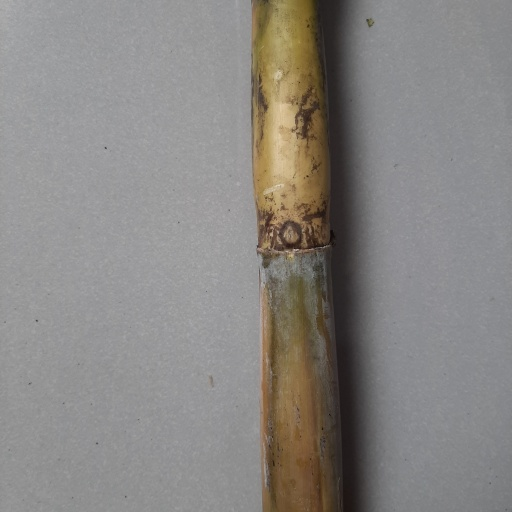Bud: (278, 221, 304, 249)
